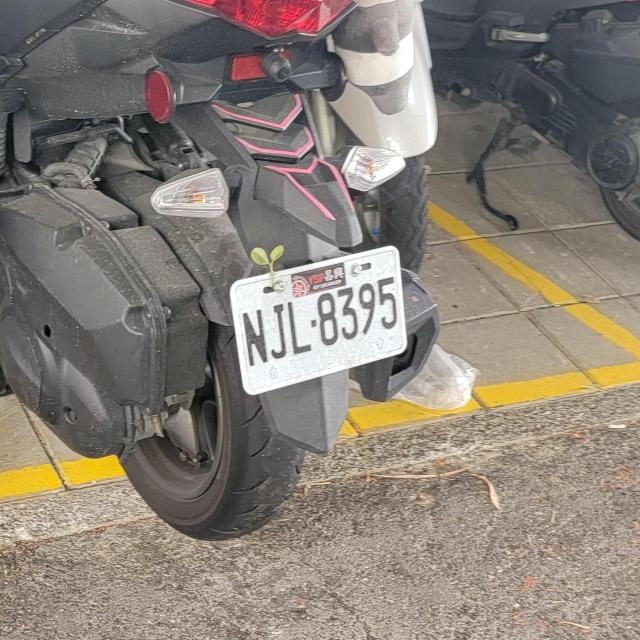W: (223, 243, 414, 395)
